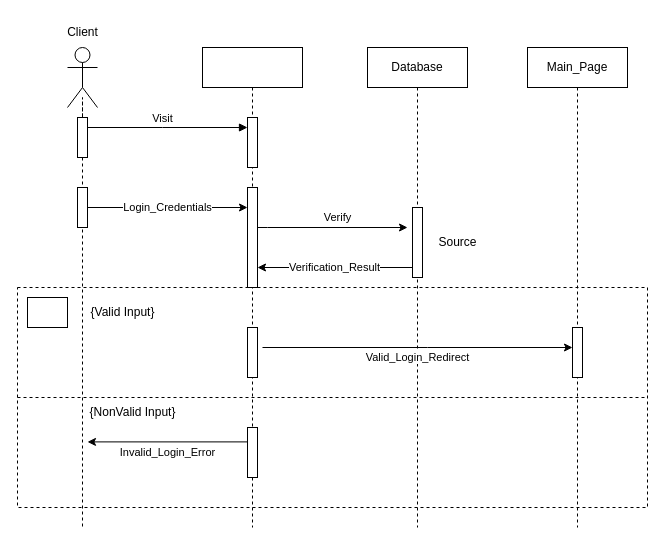
Some shapes in this 666 by 546 pixel diagram are drawn without their labels. Here are the shapes that lost their labels. From the top down, the centre of each, then its label:
the point at 252,287: Login_Page
the point at 47,312: Alt
